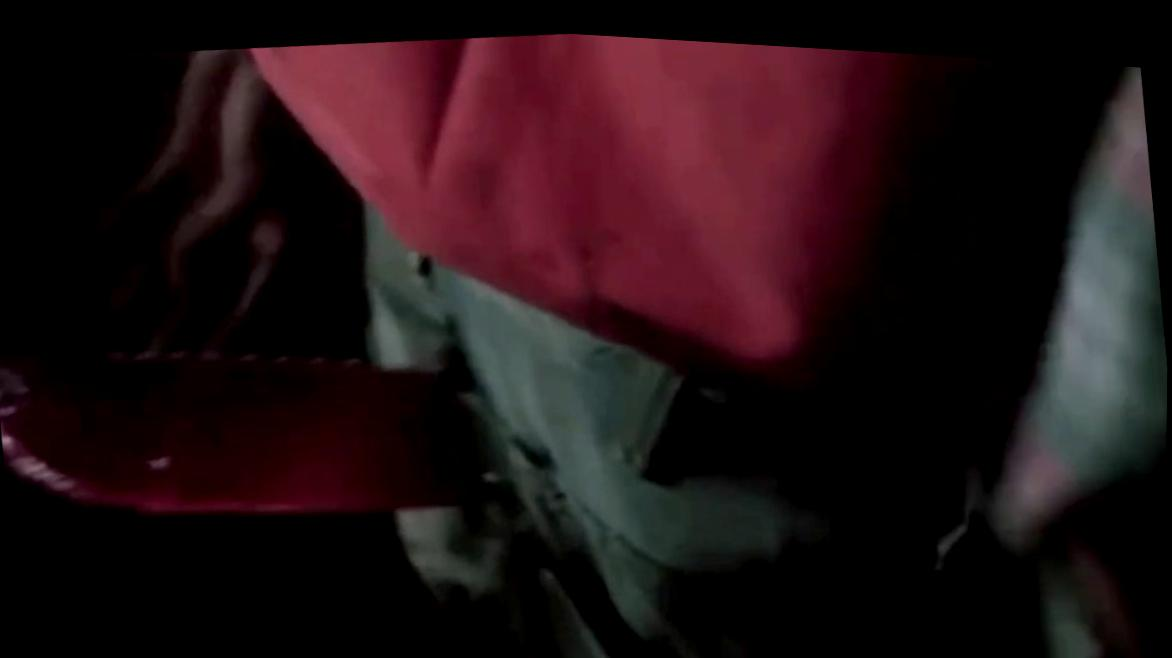Fire: (0, 352, 467, 513)
